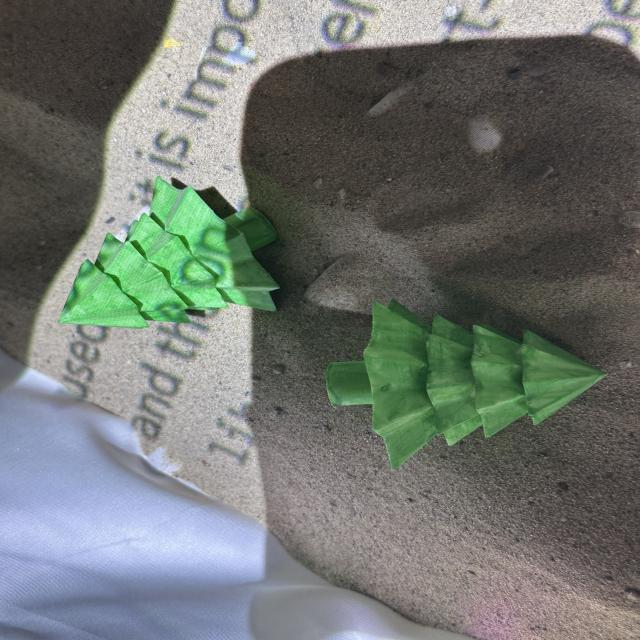tree: (323, 297, 608, 471), (57, 174, 280, 330)
